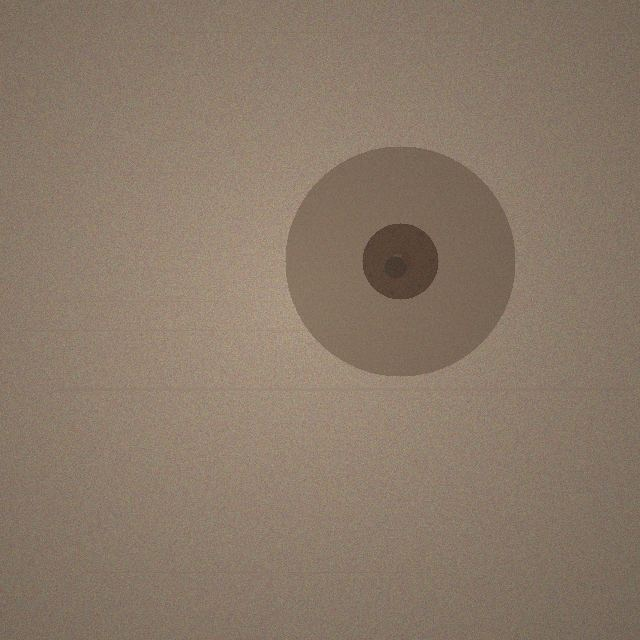cold_weld: (285, 146, 515, 376)
